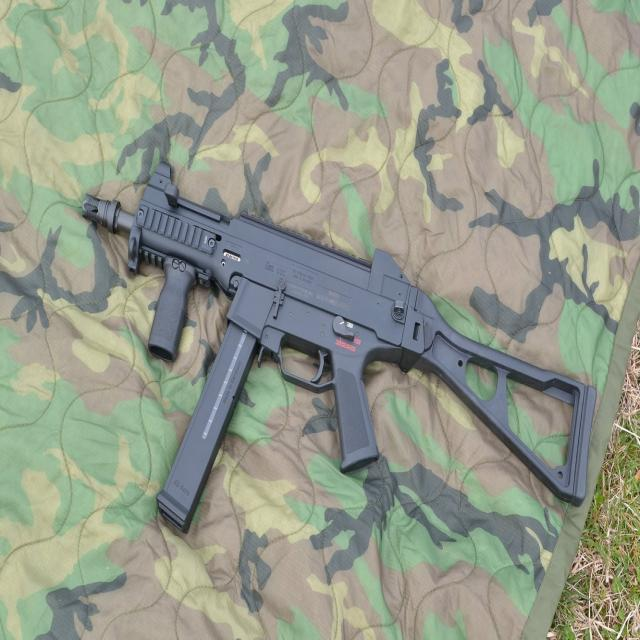SMG: (85, 163, 596, 532)
